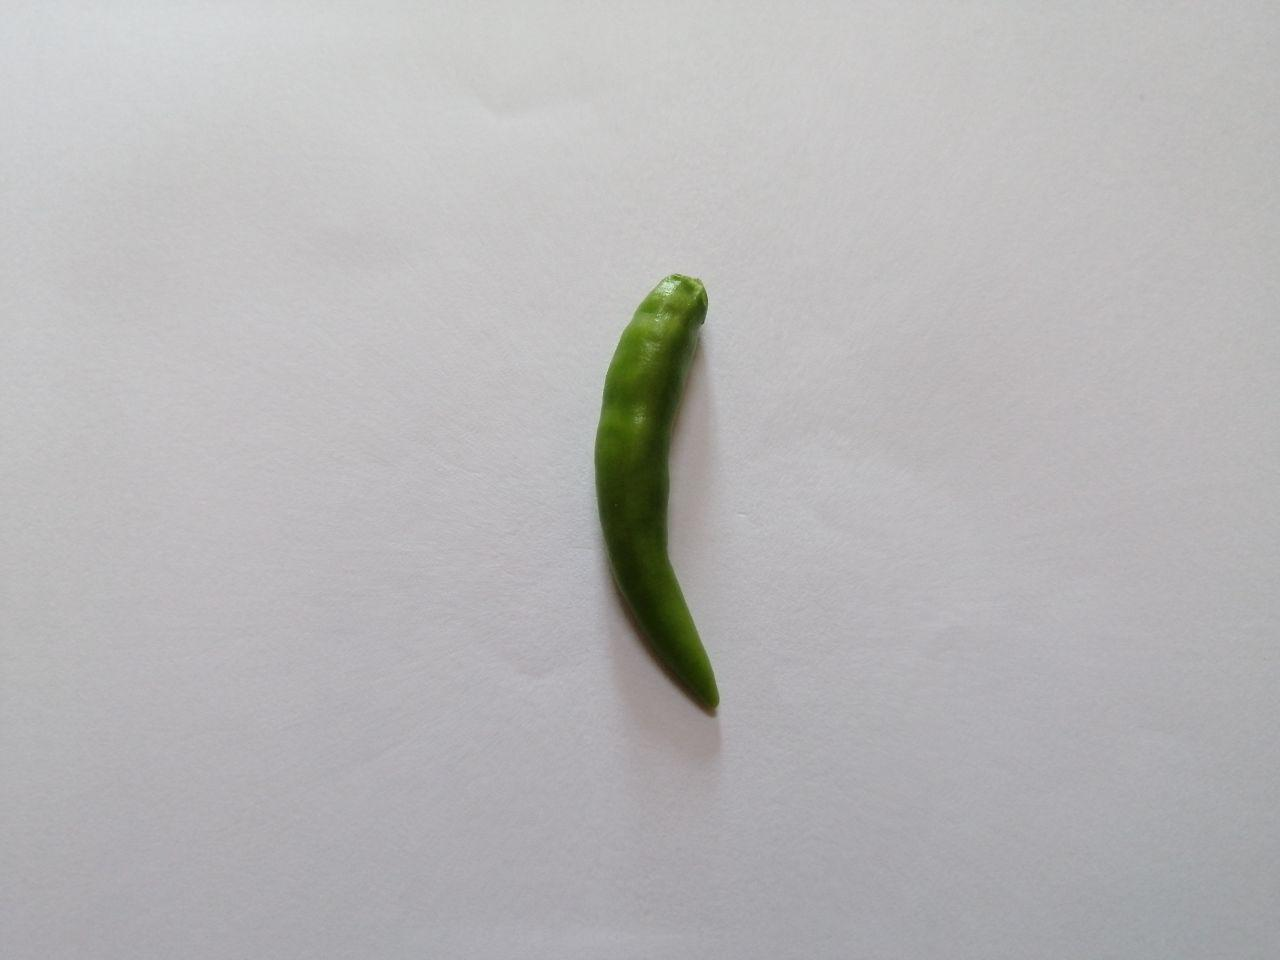lada hijau: (580, 233, 771, 768)
